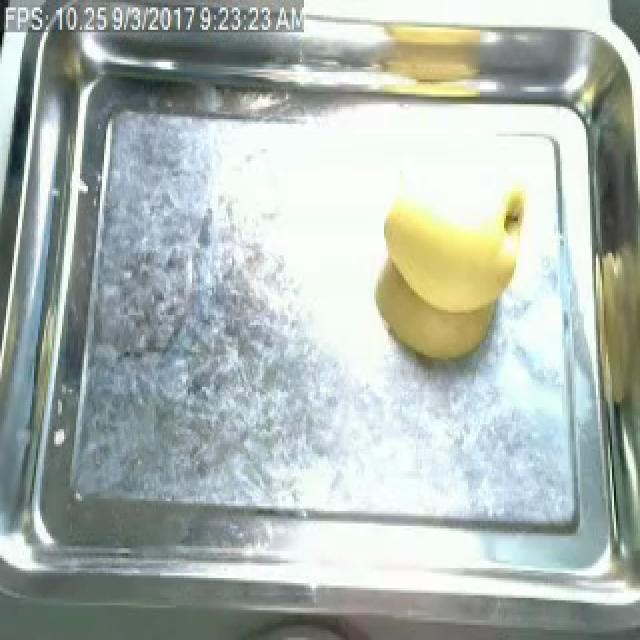Fruit: (372, 176, 542, 320)
